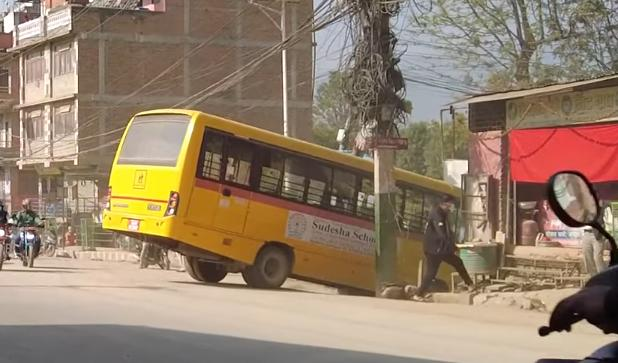bike: (9, 214, 47, 270)
school_bus: (98, 106, 477, 292)
